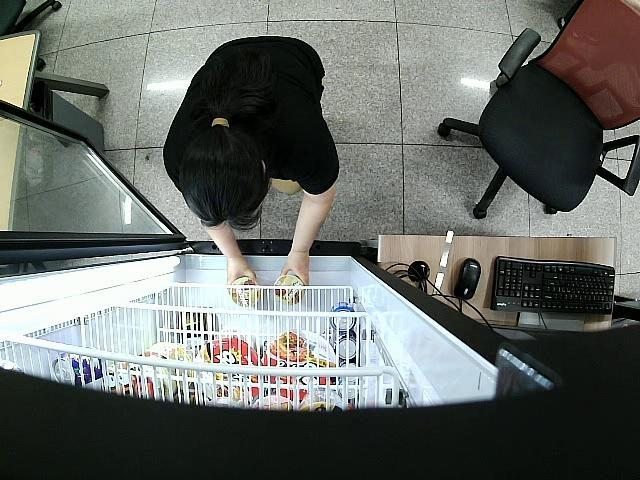04_chapagetti_S: (274, 272, 305, 304), (230, 277, 260, 310)
